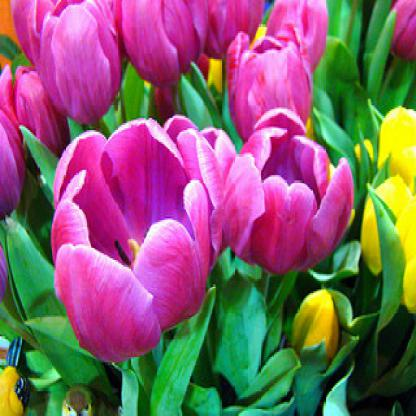TULIP: (20, 27, 404, 363)
